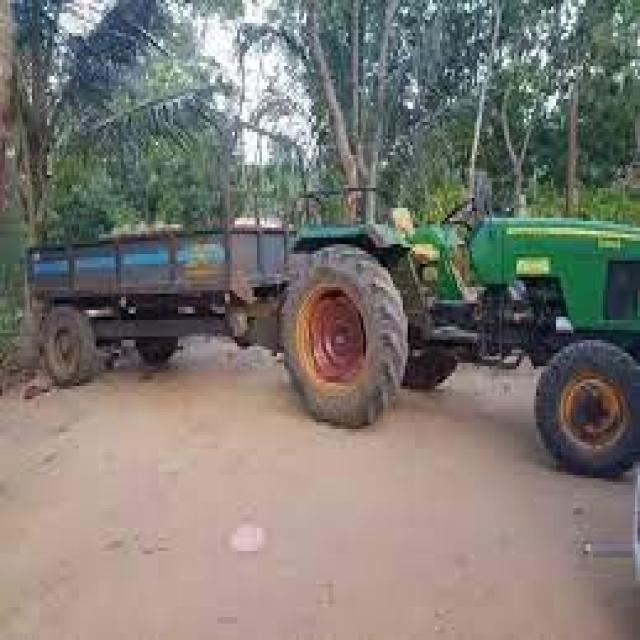tractor: (30, 218, 638, 475)
